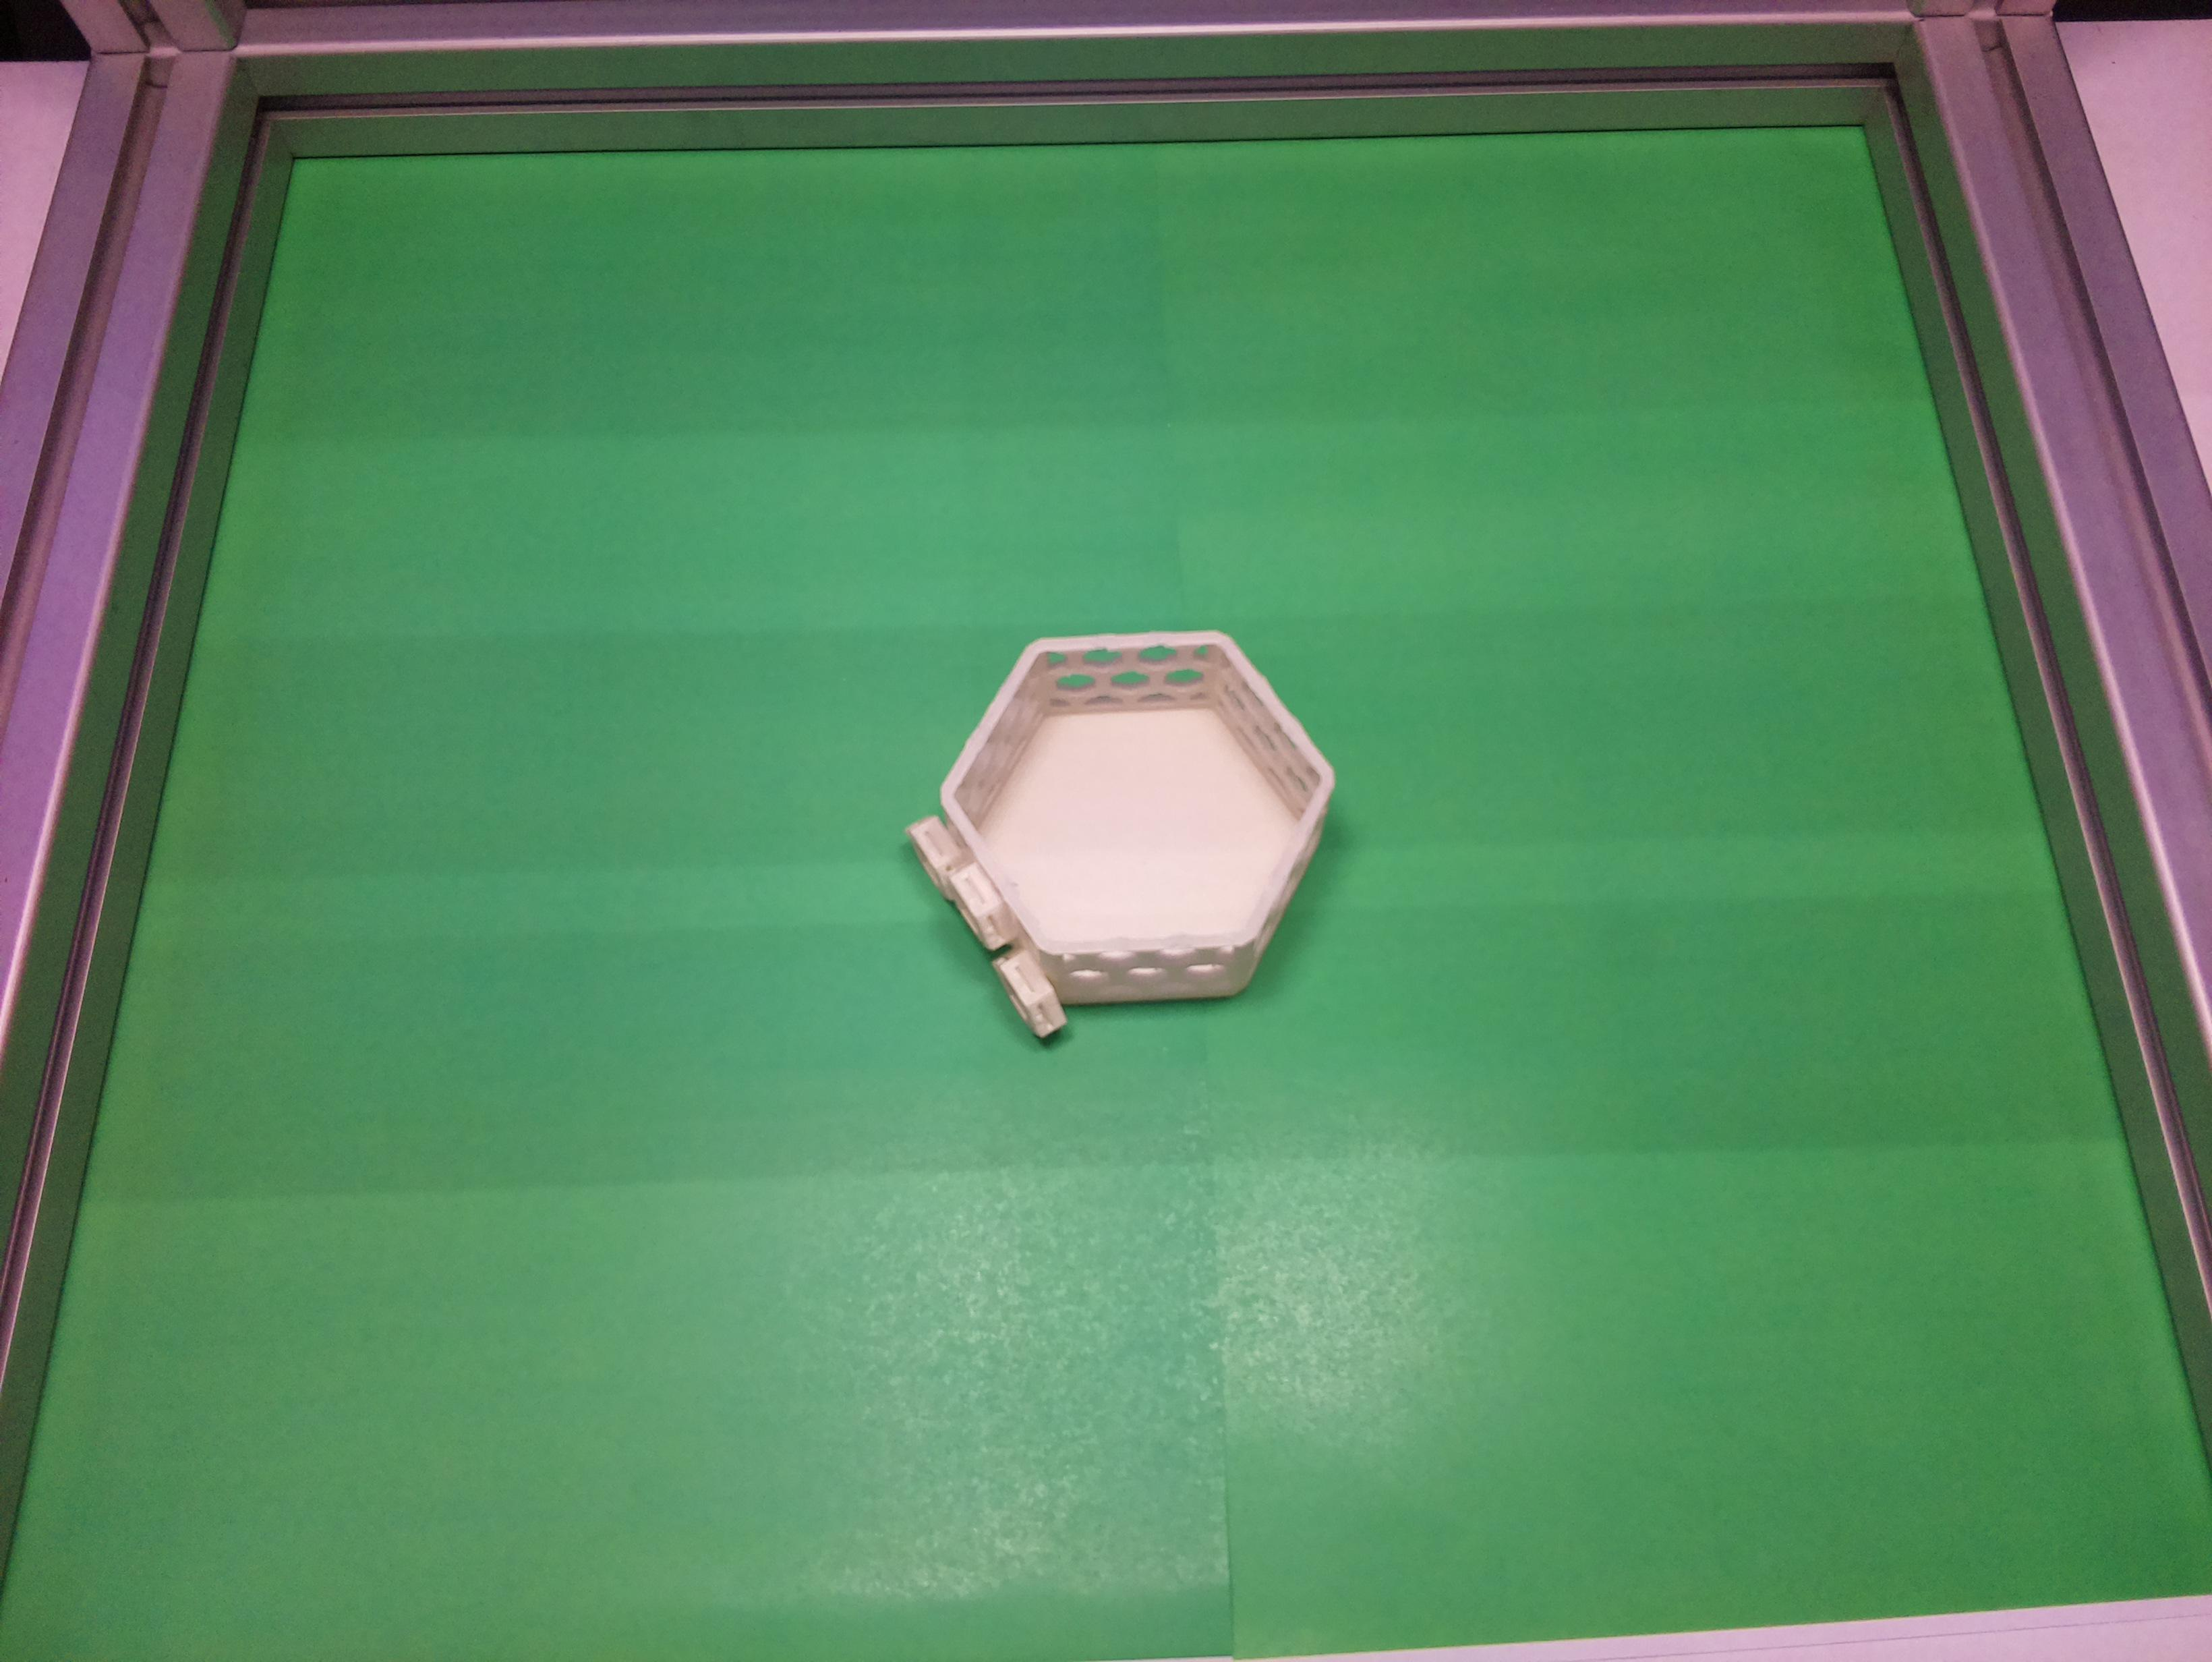bottle_holder: (848, 545, 1407, 1103)
